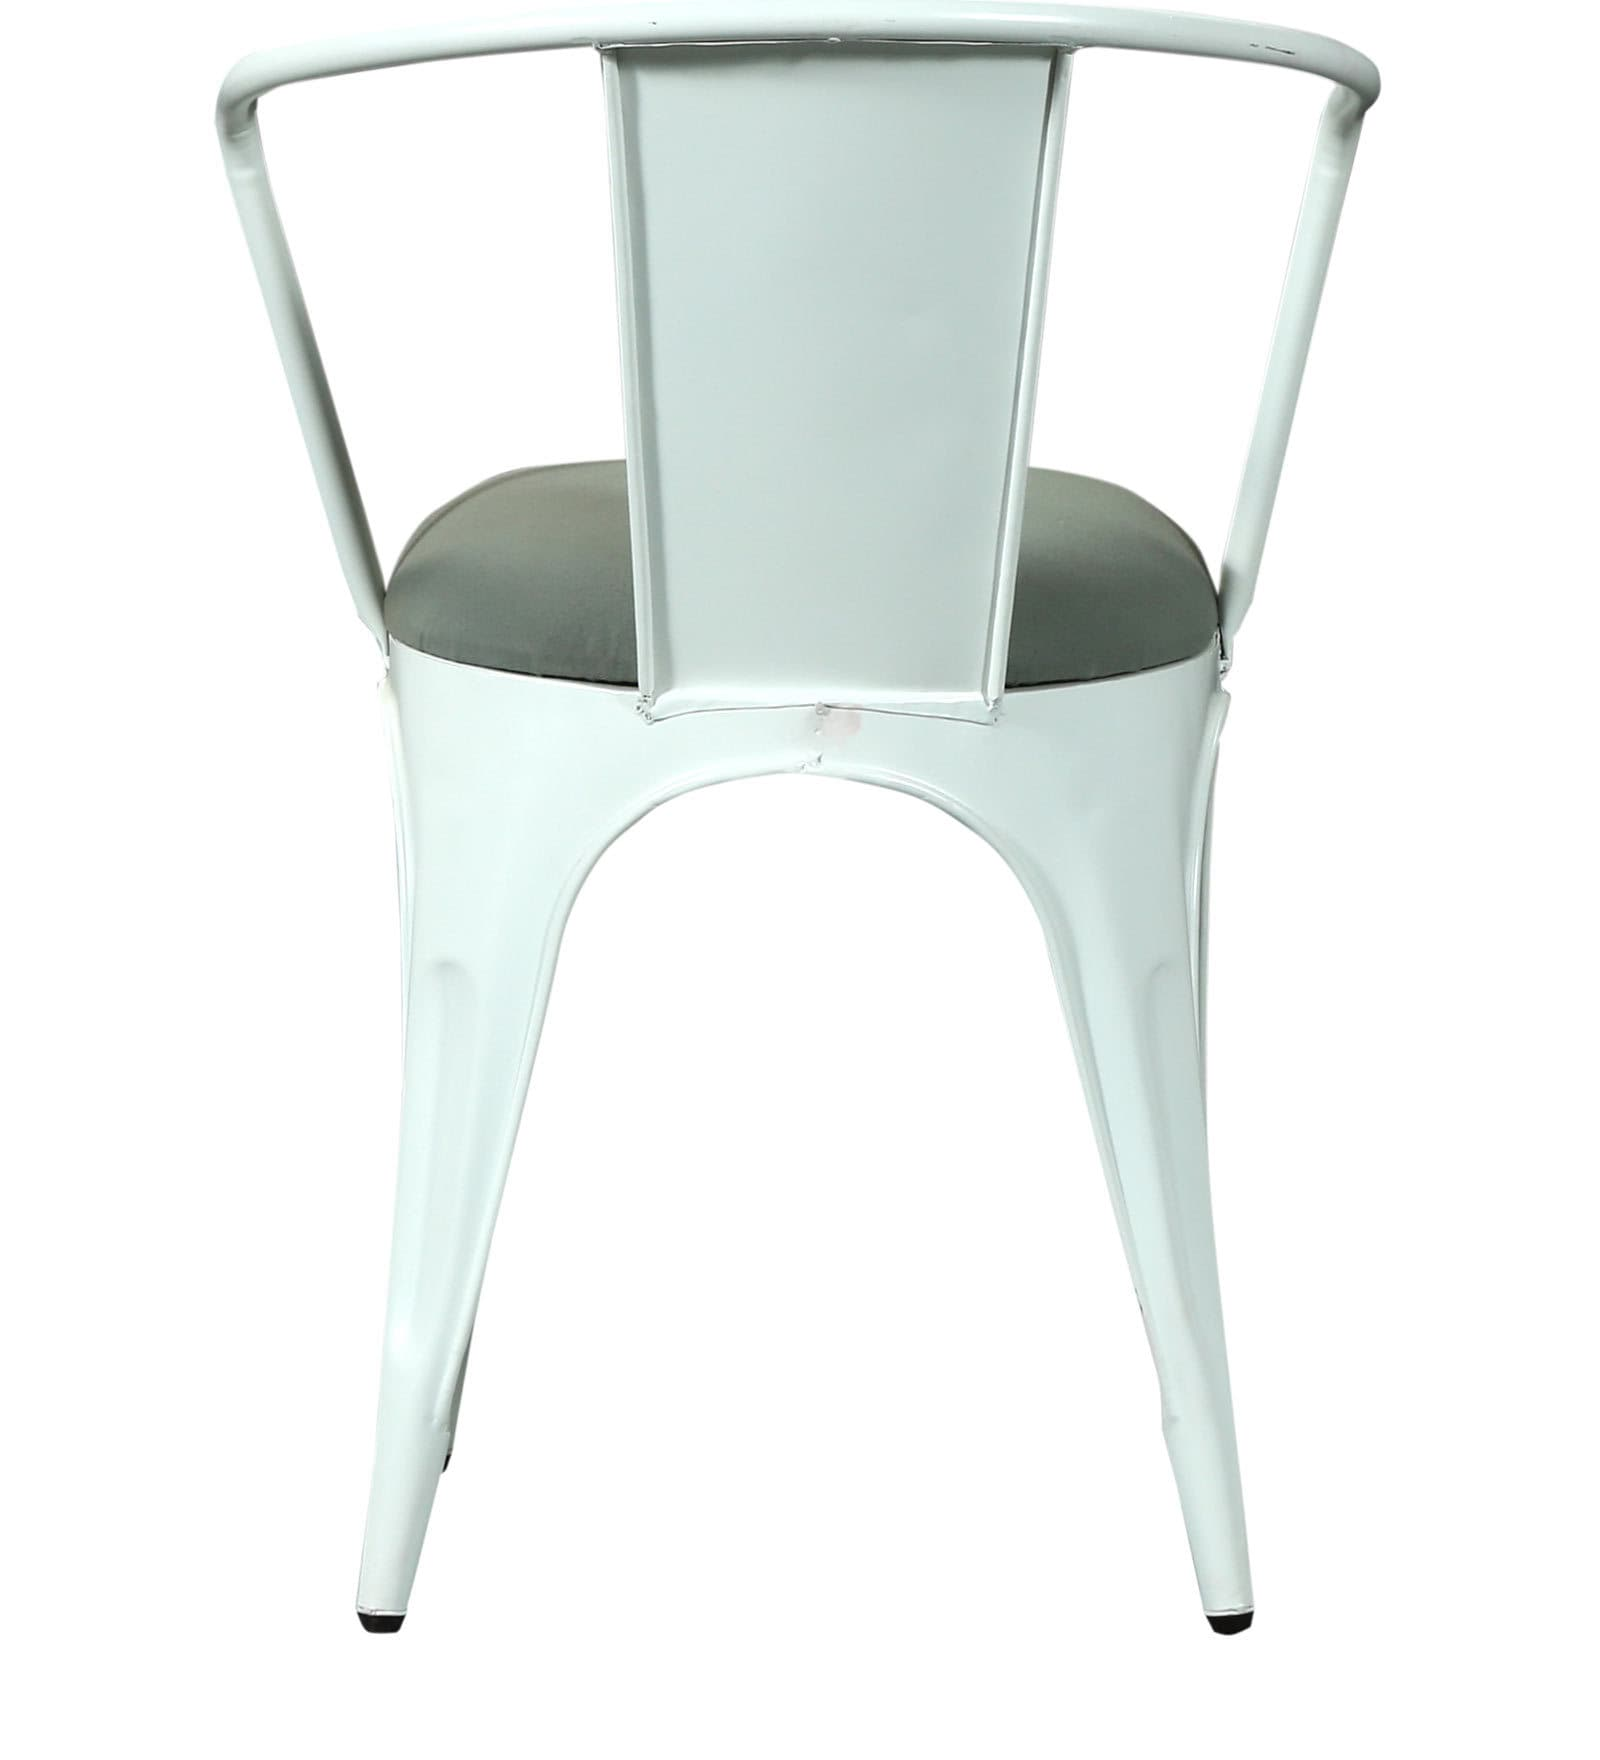Danlou Metal Chair with Cushion in White Colour by Bohemiana: (156, 26, 1471, 1739)
